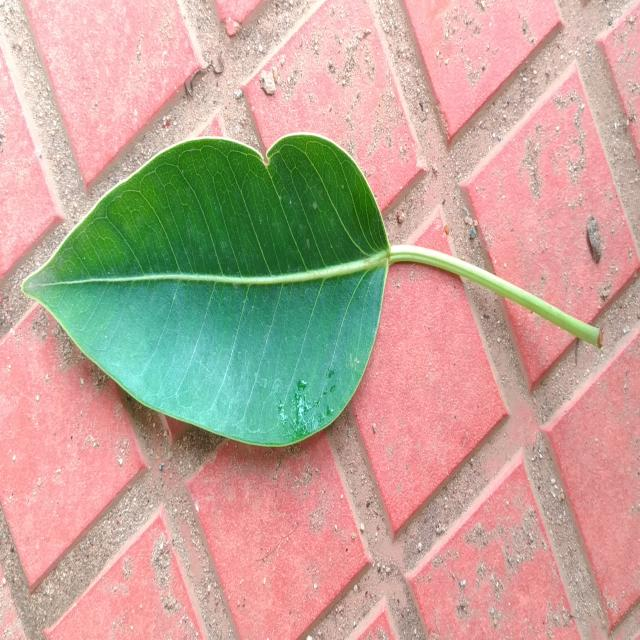camphor: (24, 133, 390, 447)
